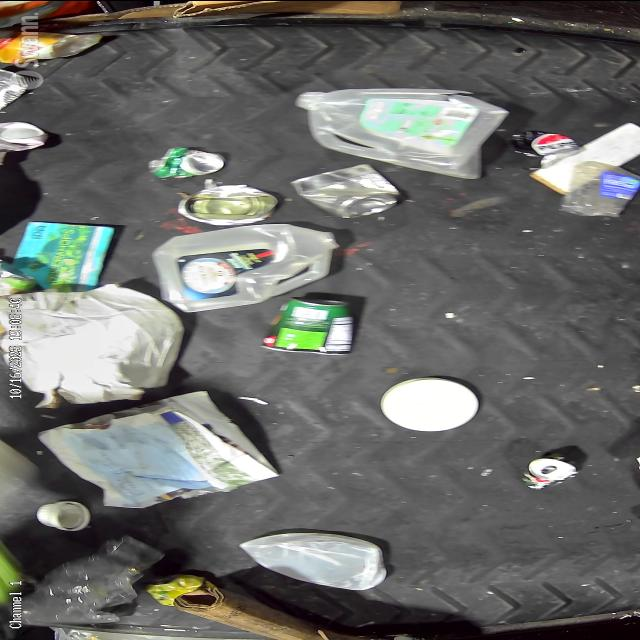can: (289, 160, 404, 218), (254, 294, 360, 356), (174, 180, 280, 225), (506, 128, 586, 170), (146, 144, 226, 178), (516, 451, 582, 491), (0, 120, 52, 152), (1, 67, 28, 111)
milk_jug: (292, 84, 509, 181), (149, 222, 345, 312), (237, 529, 393, 591)
